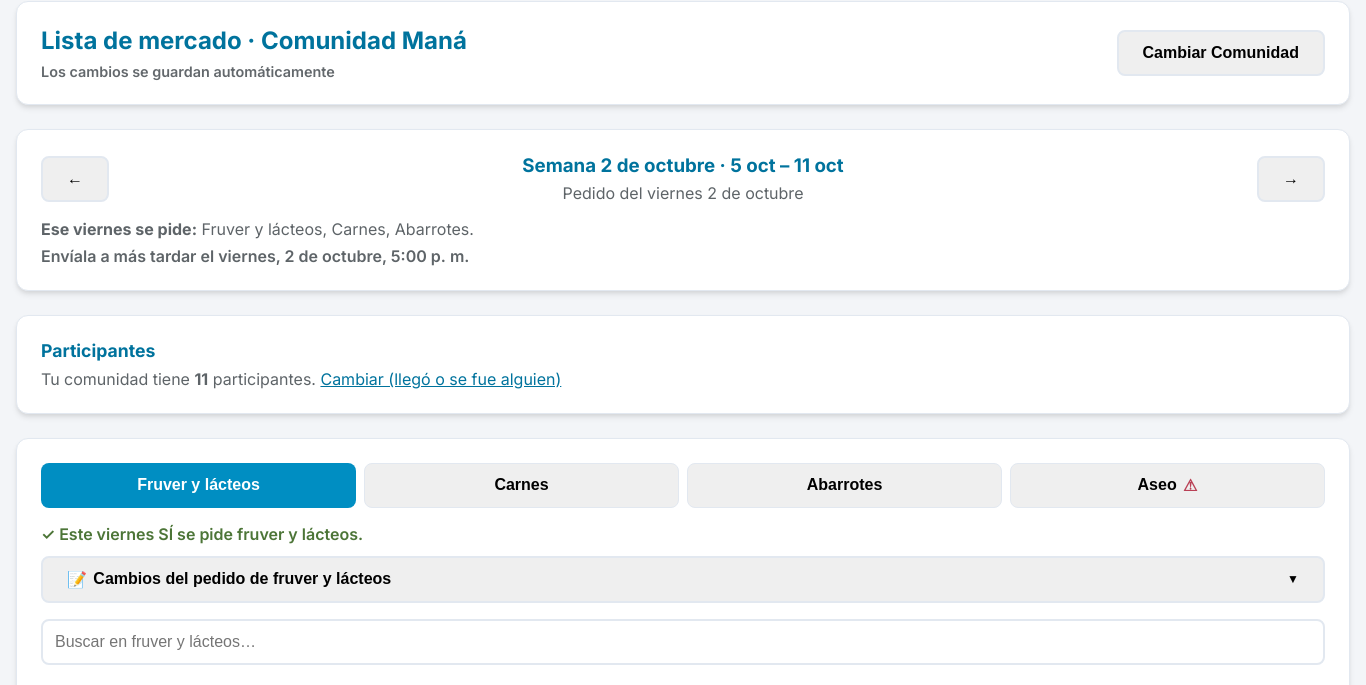
Test: zona de cambios: agregar › empieza cerrada si no hay notas, y se abre con el botón
Click the button "📝 Cambios del pedido de fruver y lácteos ▼" at coordinates (183, 579), box [41,556,1325,603]
(page scrolled)
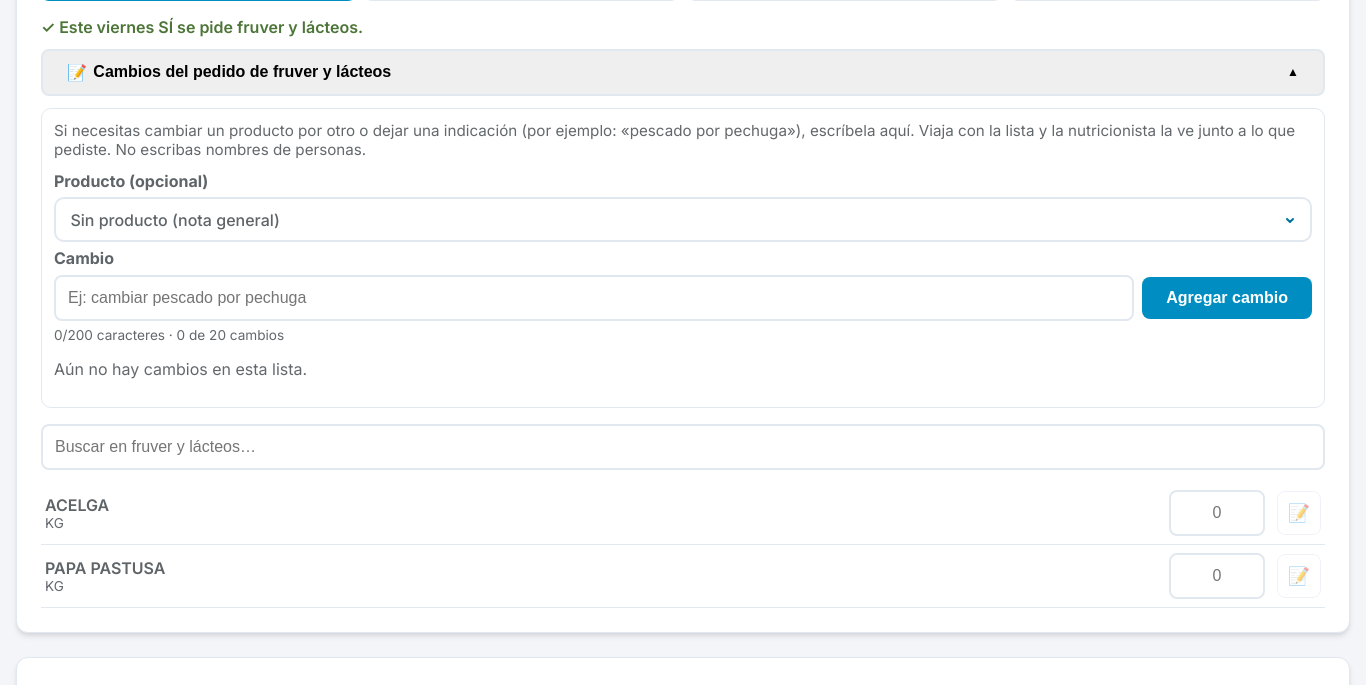
Expected: the field labelled "Cambio" is shown, [54,275,1134,321]
Expected: the text "Aún no hay cambios en esta lista." is shown, [54,359,307,379]
